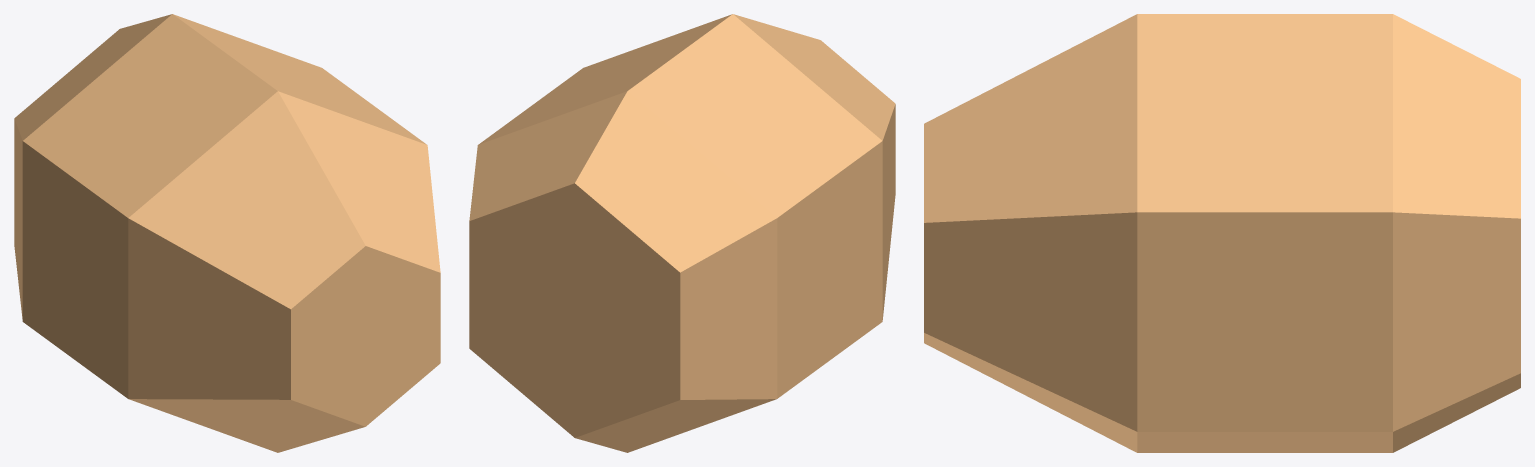
The model's file is egg.obj.
3 renders of one model, left to right at view 1: azimuth 30°, elevation 25°; view 2: azimuth 150°, elevation 25°; view 3: azimuth 270°, elevation 25°, orthographic. The views are drawn at different scales.
Parts seen in each view (by area): view 1: egg; view 2: egg; view 3: egg.
Part boxes in pixels (left/top/right/bottom): egg: left=14, top=14, right=440, bottom=452; egg: left=469, top=14, right=895, bottom=452; egg: left=924, top=14, right=1520, bottom=452.
Bounding box in the file's own units: 0.1161 × 0.134 × 0.1652.
